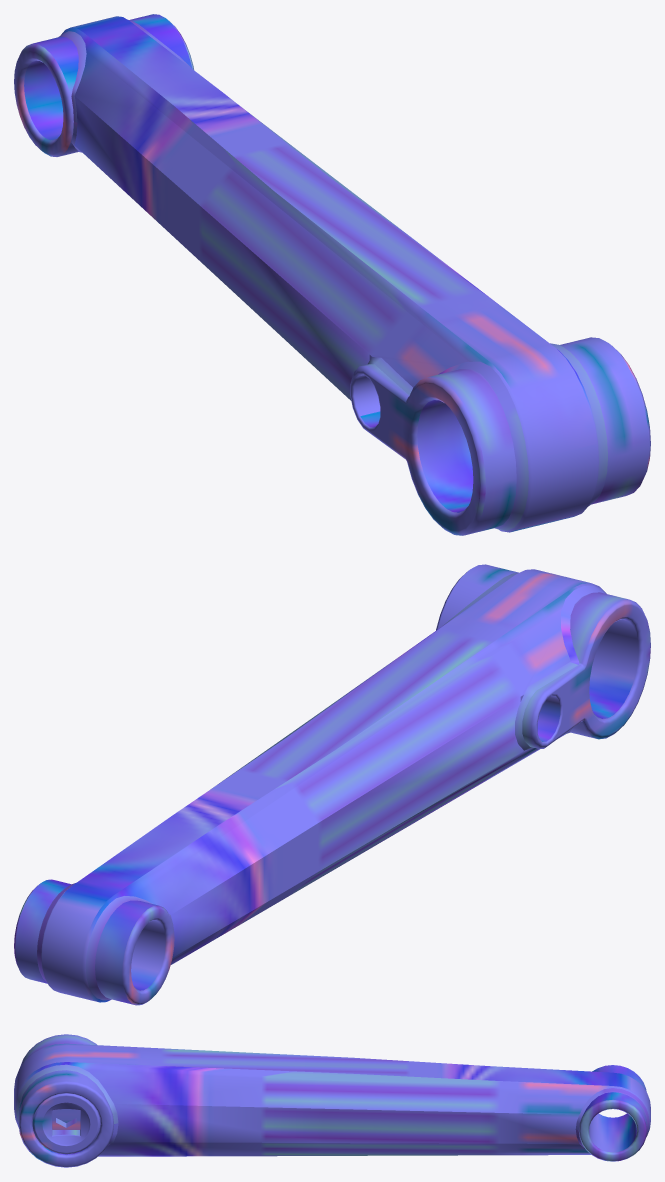
The model's file is BMX_CrankArm_Bestial_Lever 160mm.fbx.
3 views of the same model, one above another, from view 1: azimuth 30°, elevation 25°; view 2: azimuth 150°, elevation 25°; view 3: azimuth 270°, elevation 25° (orthographic). The views are drawn at different scales.
Parts seen in each view (by area): view 1: BMX_CrankArm_Bestial_Lever160mm; view 2: BMX_CrankArm_Bestial_Lever160mm; view 3: BMX_CrankArm_Bestial_Lever160mm.
Boxes of the visible parts, x1=… form: BMX_CrankArm_Bestial_Lever160mm: x1=14, y1=14, x2=650, y2=535; BMX_CrankArm_Bestial_Lever160mm: x1=14, y1=564, x2=650, y2=1005; BMX_CrankArm_Bestial_Lever160mm: x1=14, y1=1034, x2=650, y2=1167.
Bounding box in the file's own units: 3.81 × 3.06 × 18.63.
Materials: 1 (1 with a texture image).
